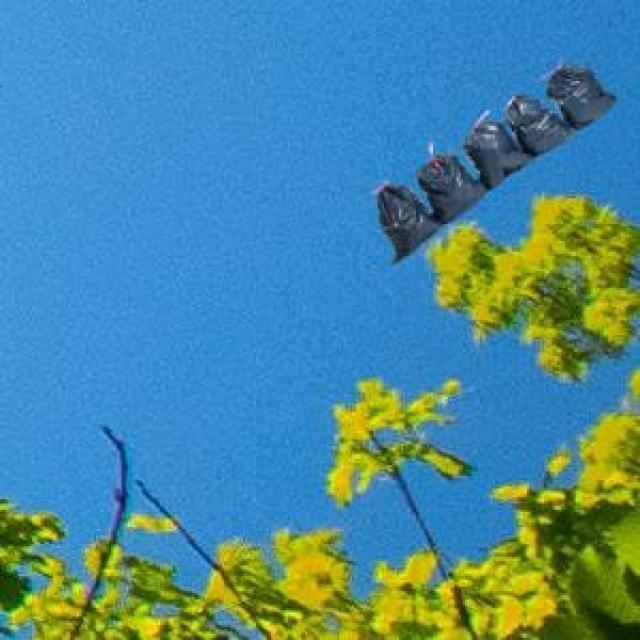waste: (379, 68, 615, 262)
